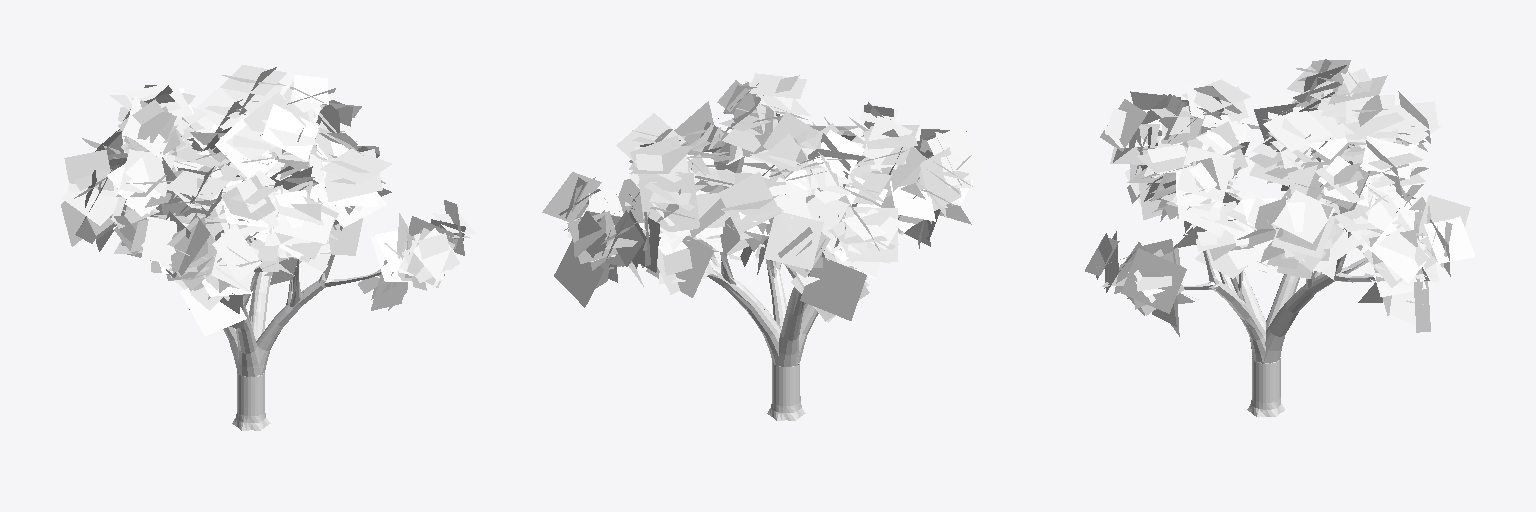
File: California_Bay_Model_0.obj
3 views of the same model, side by side, from view 1: azimuth 30°, elevation 25°; view 2: azimuth 150°, elevation 25°; view 3: azimuth 270°, elevation 25° (orthographic).
Visible parts, largest first — view 1: Foliage__leafcard, Bark; view 2: Foliage__leafcard, Bark; view 3: Foliage__leafcard, Bark.
Part boxes in pixels (x1,y1,x2,y2): Foliage__leafcard: (61, 65, 475, 336); Bark: (120, 224, 380, 430); Foliage__leafcard: (542, 73, 984, 322); Bark: (604, 163, 916, 420); Foliage__leafcard: (1085, 59, 1474, 336); Bark: (1183, 144, 1423, 416).
Size of the model in its own units: 26.53 by 25 by 27.77.